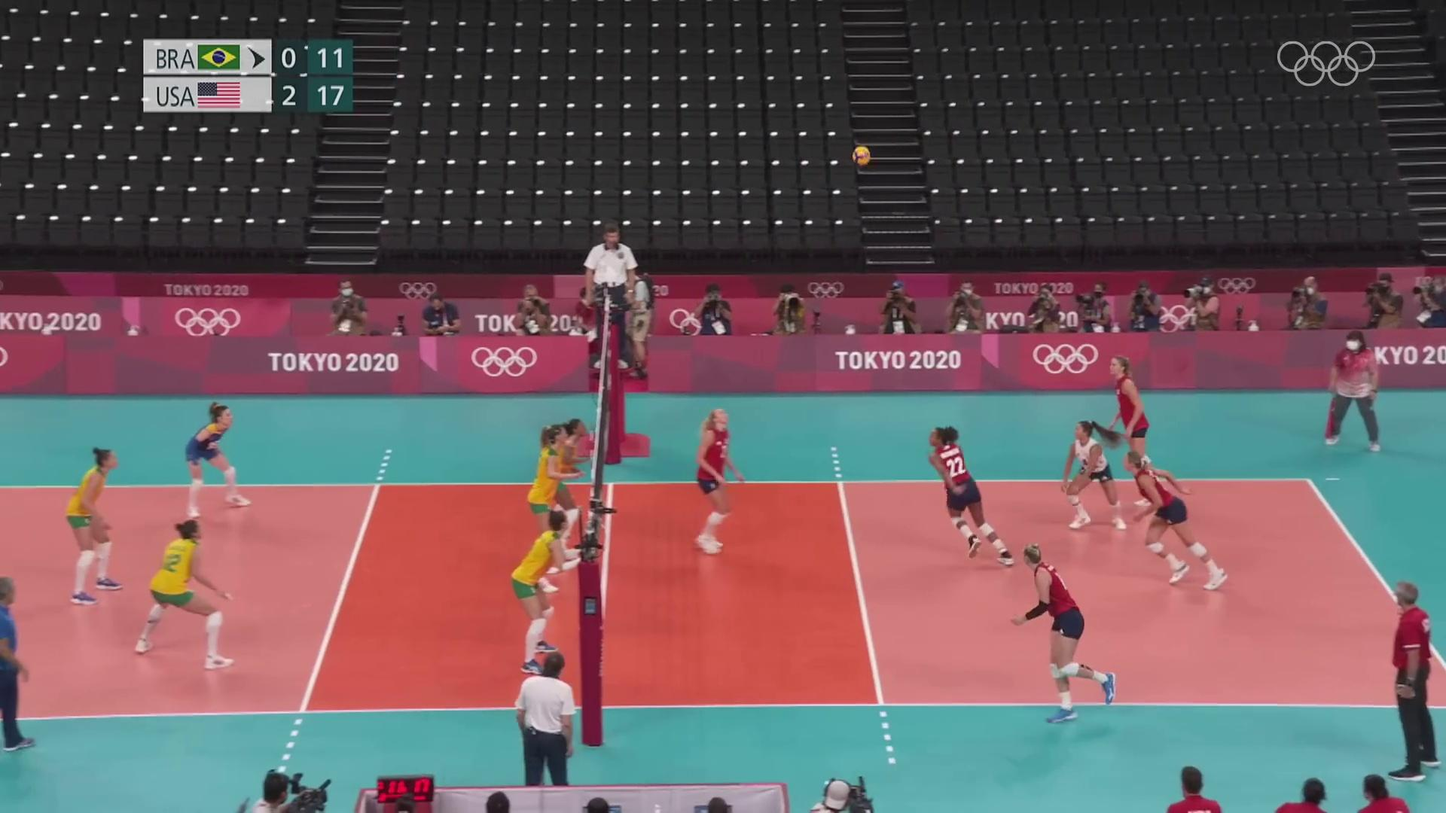player: (1011, 540, 1120, 726), (134, 521, 236, 669), (1125, 452, 1227, 591), (925, 431, 1014, 567), (503, 509, 573, 668), (58, 448, 122, 603), (1103, 356, 1161, 505), (526, 426, 573, 594), (184, 403, 252, 518), (687, 407, 741, 551), (1064, 421, 1128, 526), (549, 418, 590, 560)
refree: (517, 651, 574, 790), (587, 223, 638, 371), (1324, 332, 1384, 452)
